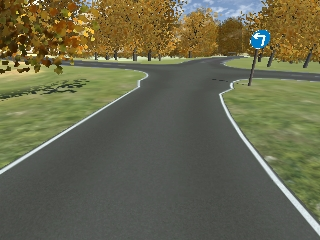left: (250, 29, 269, 49)
